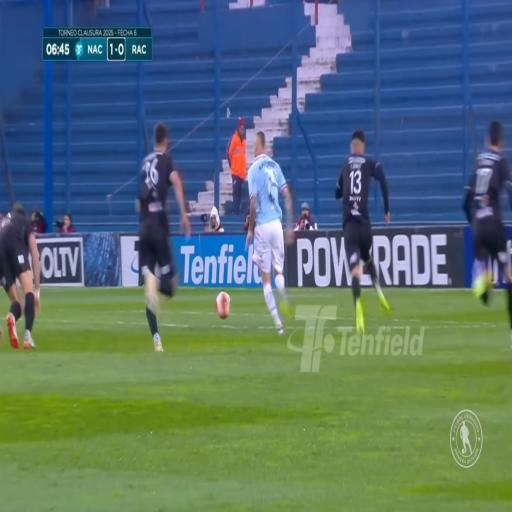Ball: (214, 288, 233, 321)
Player: (336, 124, 392, 336), (248, 130, 292, 334), (138, 123, 175, 356), (469, 114, 512, 312), (0, 204, 44, 356)
